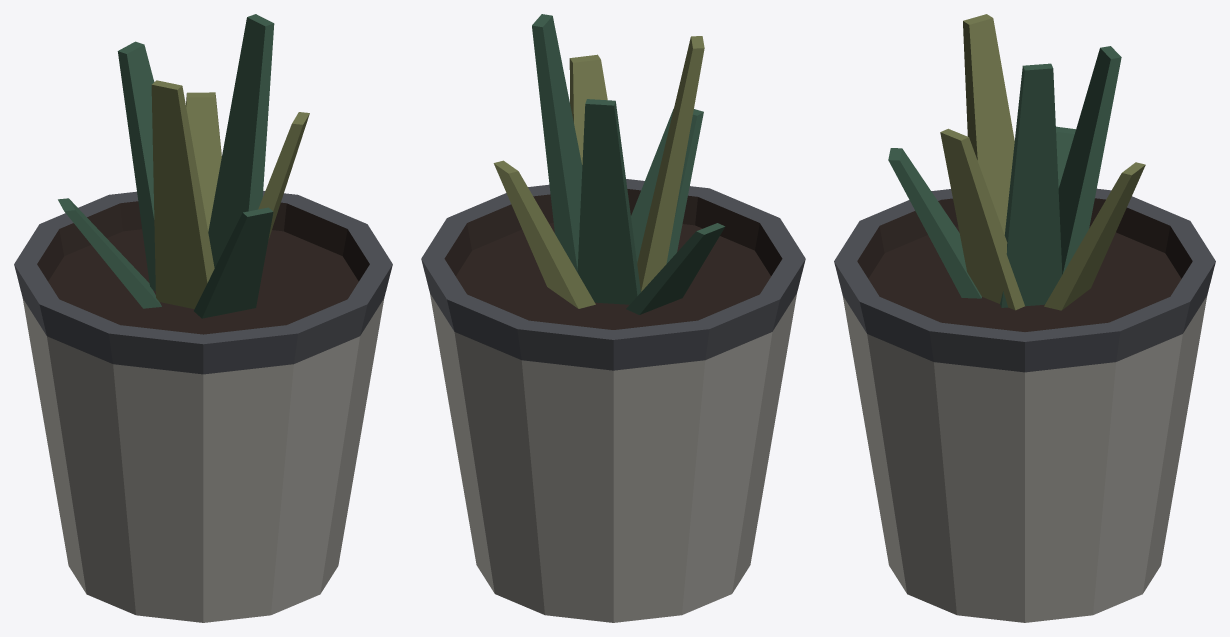
Rendered from FN_Plant_Small.obj.
The picture shows the model from 3 angles, left to right: view 1: azimuth 30°, elevation 25°; view 2: azimuth 150°, elevation 25°; view 3: azimuth 270°, elevation 25°; orthographic projection.
Parts seen in each view (by area): view 1: FN_Plant_Small; view 2: FN_Plant_Small; view 3: FN_Plant_Small.
Boxes of the visible parts, <box> form: FN_Plant_Small: <box>14,14,392,622</box>; FN_Plant_Small: <box>421,14,805,622</box>; FN_Plant_Small: <box>834,14,1215,622</box>.
Size of the model in its own units: 0.264 by 0.404 by 0.264.
1 material, 1 textured.
